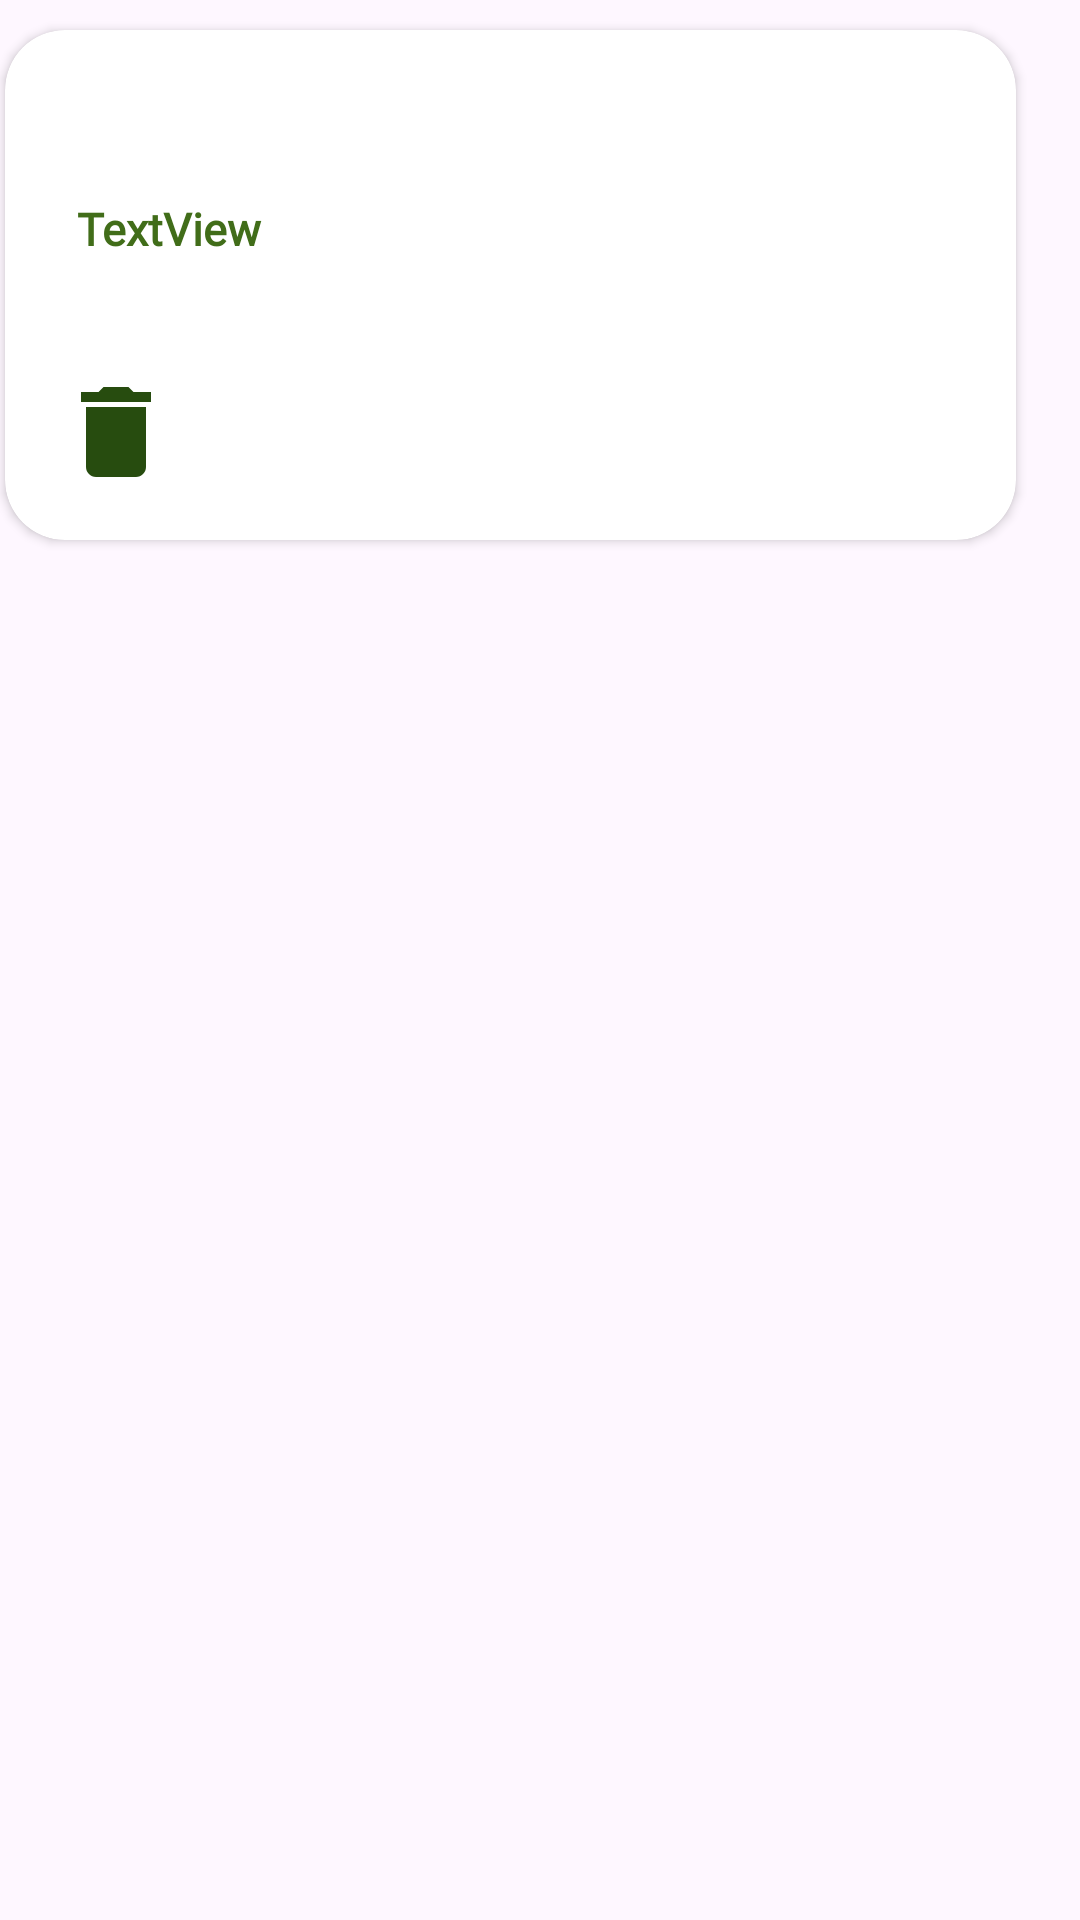

Point at icon controls on the screen. Image size 1080 × 1920, points as point (x, y).
delete: point (116, 432)
